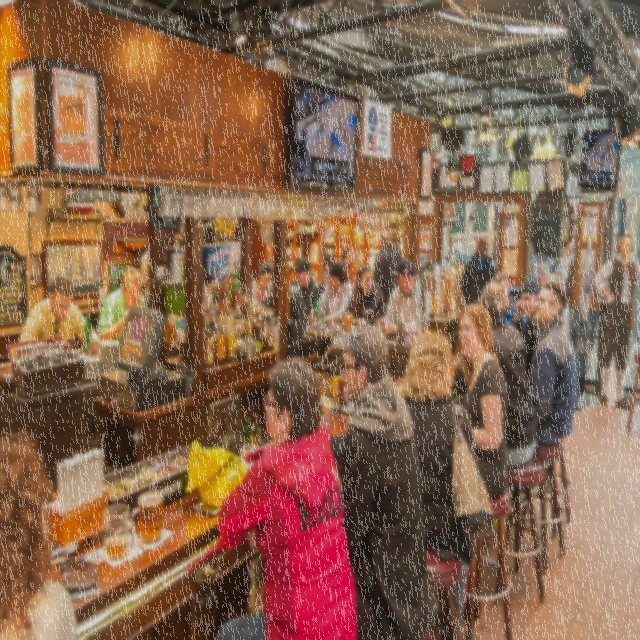pessoa: (215, 354, 359, 639), (330, 324, 438, 639), (401, 328, 481, 640), (0, 428, 79, 639), (474, 280, 536, 508), (580, 226, 640, 414), (456, 302, 508, 502), (525, 281, 579, 447), (18, 276, 100, 356), (293, 85, 355, 168), (374, 258, 432, 338), (96, 264, 146, 342), (512, 276, 546, 383), (308, 260, 357, 328), (132, 238, 174, 312), (342, 264, 386, 326), (564, 232, 586, 350), (373, 230, 403, 316), (461, 237, 496, 307), (490, 270, 528, 326), (290, 256, 324, 316), (564, 232, 580, 352), (522, 230, 558, 278), (249, 260, 273, 304), (446, 248, 462, 286), (338, 240, 355, 272), (418, 245, 432, 278)
